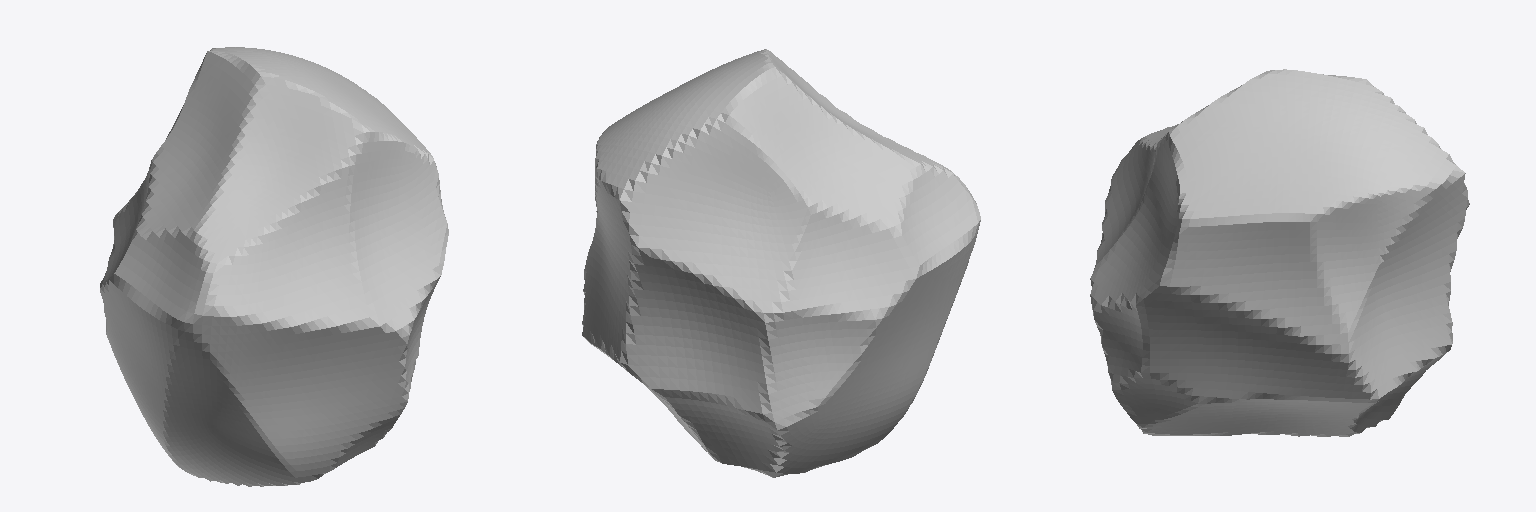
File: tom-rock.obj
The picture shows the model from 3 angles: view 1: azimuth 30°, elevation 25°; view 2: azimuth 150°, elevation 25°; view 3: azimuth 270°, elevation 25°; orthographic projection.
Visible parts, largest first — view 1: Cube; view 2: Cube; view 3: Cube.
Part boxes in pixels (bbox=[...]): Cube: bbox=[100, 47, 448, 486]; Cube: bbox=[582, 49, 980, 477]; Cube: bbox=[1090, 69, 1469, 436].
Size of the model in its own units: 0.9157 by 1.09 by 1.01.